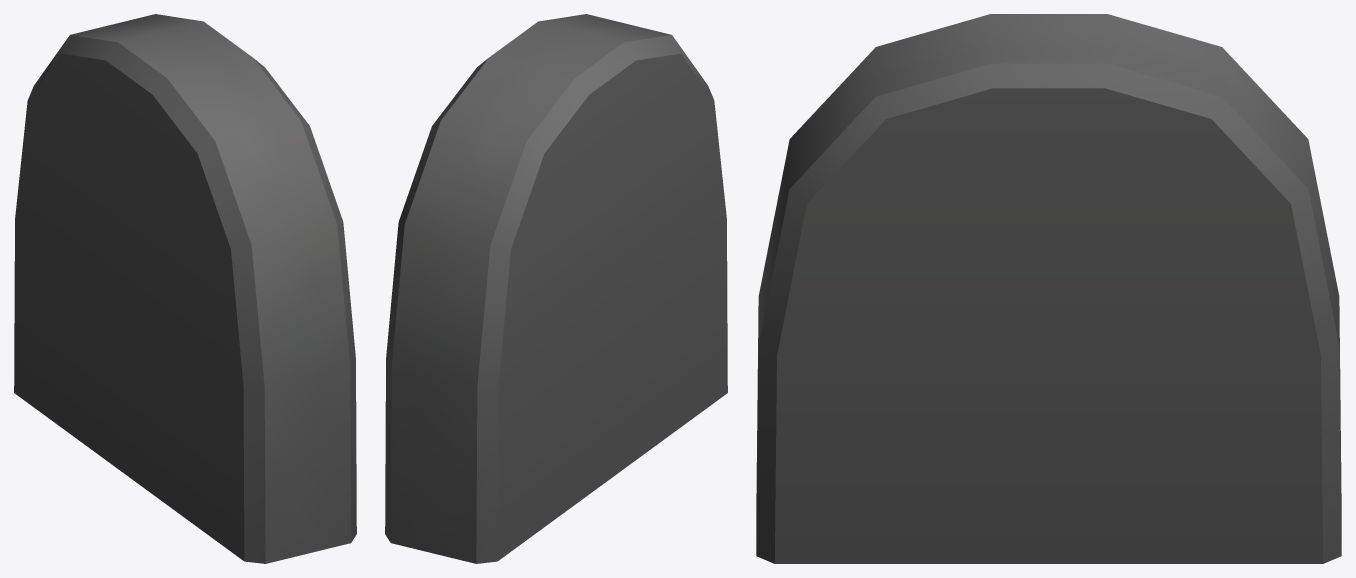
File: Tombstone_5.obj
3 views of the same model, side by side, from view 1: azimuth 30°, elevation 25°; view 2: azimuth 150°, elevation 25°; view 3: azimuth 270°, elevation 25° (orthographic). The views are drawn at different scales.
Visible parts, largest first — view 1: Tombstone_5; view 2: Tombstone_5; view 3: Tombstone_5.
Part boxes in pixels (box(x1,y1,x2,y2)): Tombstone_5: box(14, 14, 356, 563); Tombstone_5: box(385, 14, 727, 563); Tombstone_5: box(756, 14, 1341, 563).
Size of the model in its own units: 0.1765 by 0.6205 by 0.6683.
